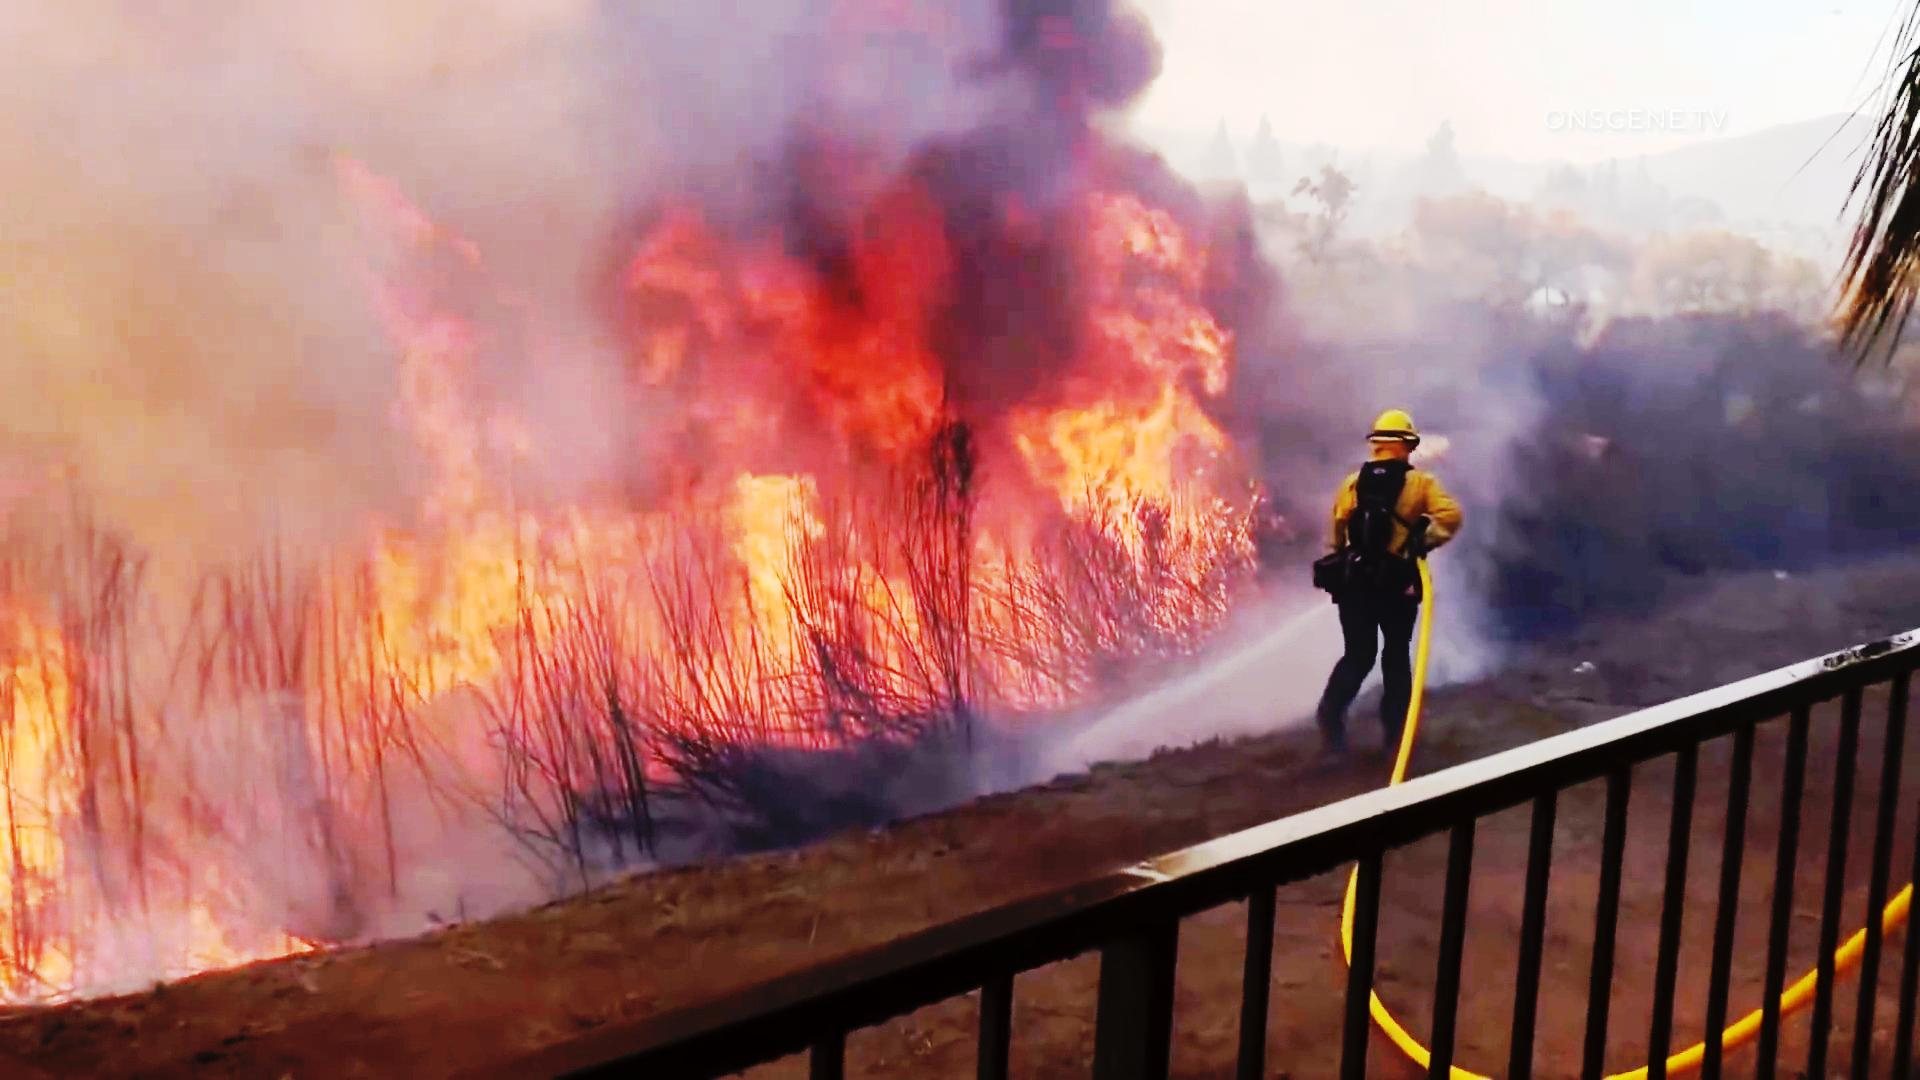fire: (295, 131, 1241, 688), (0, 611, 301, 940)
smoke: (16, 5, 315, 582), (5, 11, 1159, 136)
